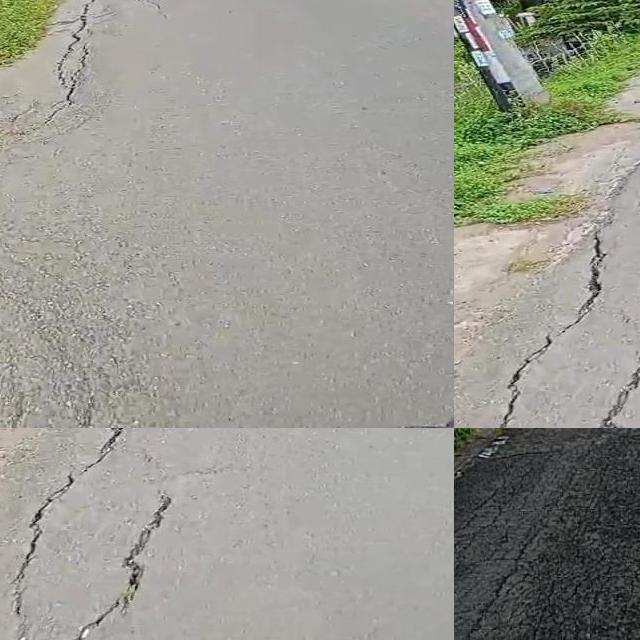Memanjang: (0, 428, 135, 640), (500, 226, 637, 428), (58, 475, 210, 640)
Pinggir: (454, 31, 640, 308), (0, 0, 130, 141)
